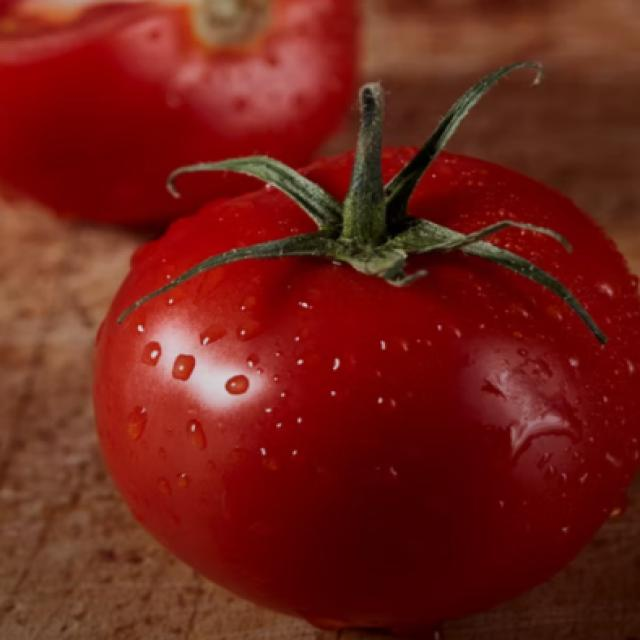Tomato: (117, 85, 640, 622)
